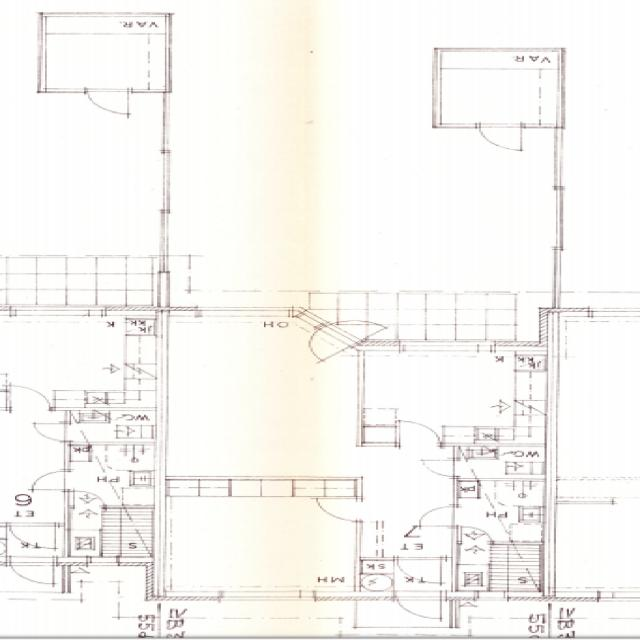door: (3, 522, 64, 555), (394, 589, 447, 622), (474, 122, 527, 154), (6, 557, 59, 588), (84, 86, 135, 118), (395, 557, 450, 585), (393, 418, 444, 448), (4, 383, 54, 412), (312, 496, 364, 522), (416, 503, 460, 529), (28, 469, 73, 493), (418, 456, 462, 479), (29, 420, 72, 443), (66, 489, 105, 509)
window: (188, 303, 298, 321), (394, 341, 496, 358), (2, 307, 114, 322), (585, 306, 640, 320), (572, 633, 637, 639)
zone: (160, 312, 358, 482), (162, 480, 358, 600), (359, 350, 539, 439), (0, 314, 162, 409), (434, 50, 563, 128), (39, 16, 169, 92), (545, 497, 640, 593), (454, 478, 544, 544), (68, 442, 158, 506), (68, 505, 158, 564), (455, 543, 546, 596), (357, 522, 455, 560), (456, 599, 550, 634), (552, 600, 640, 637), (454, 445, 547, 480), (65, 409, 157, 444), (87, 443, 158, 472)
